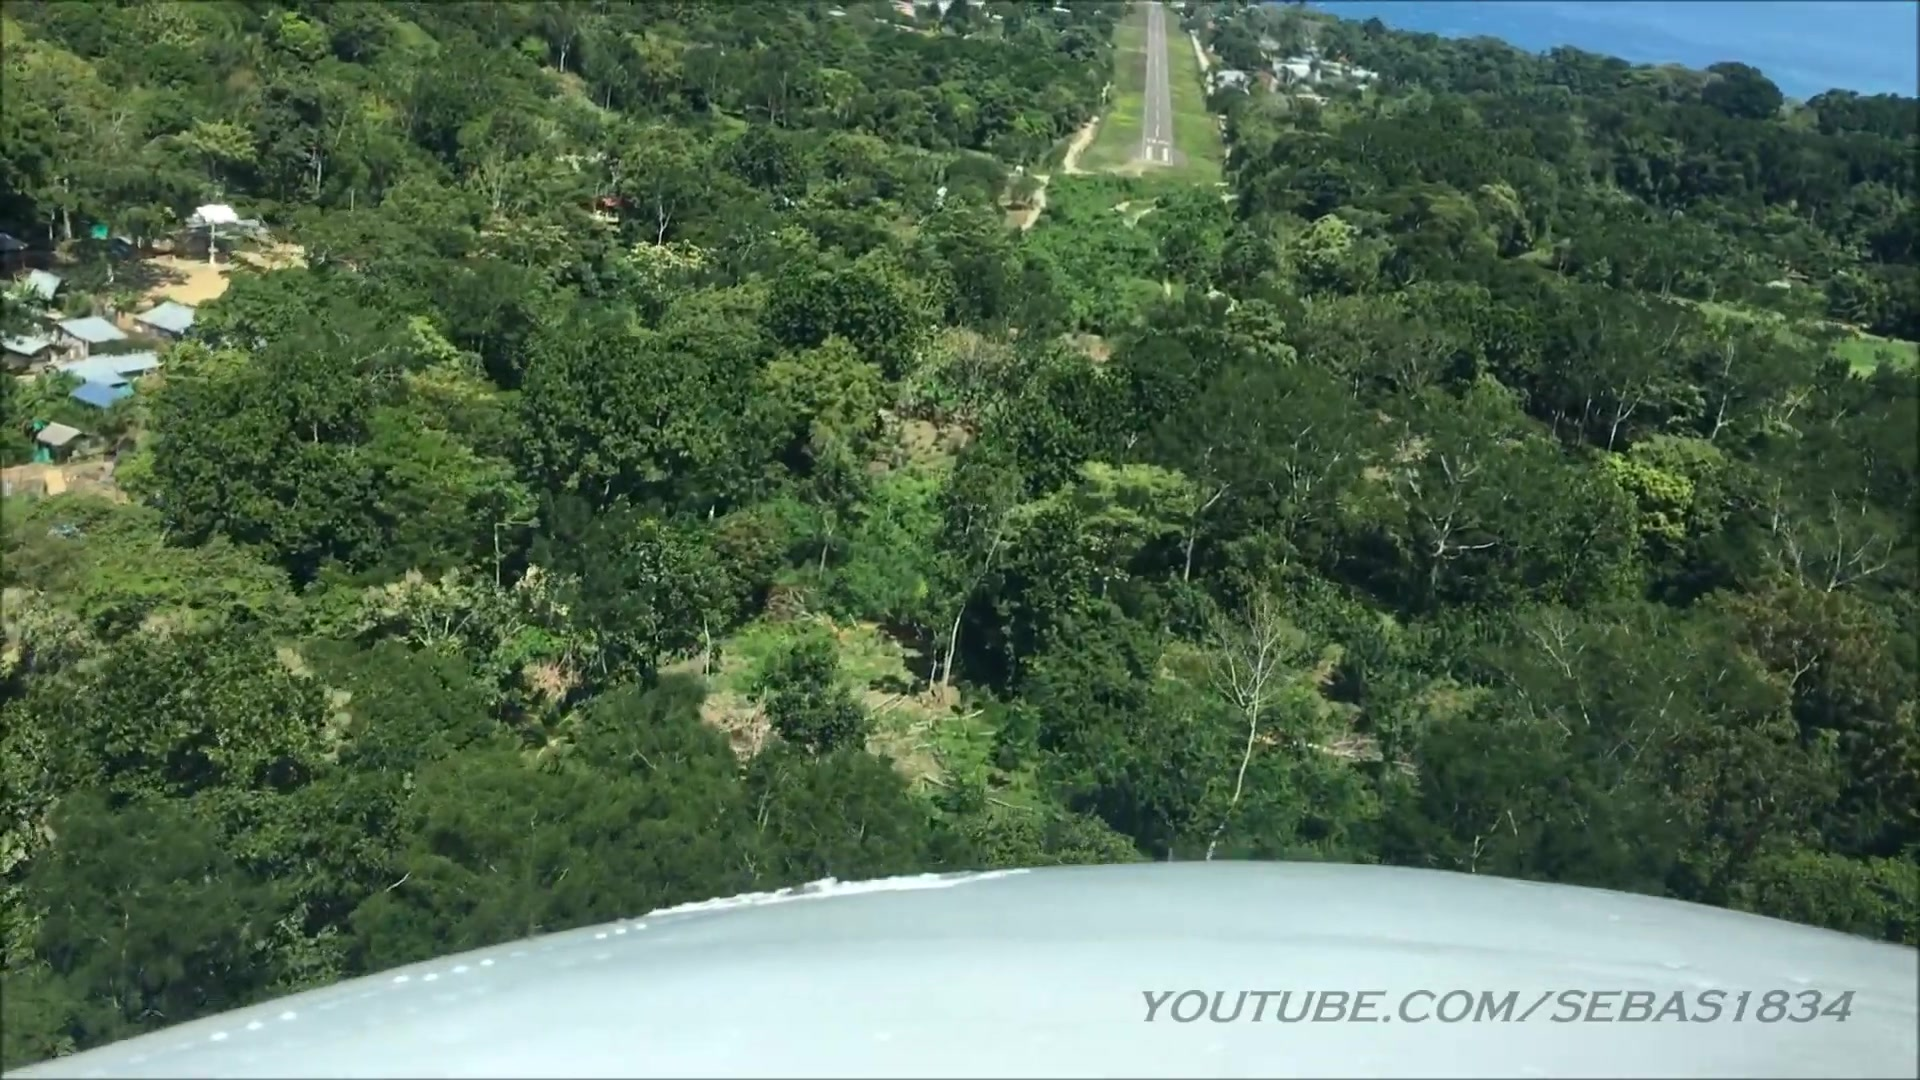runway: (1141, 1, 1175, 169)
